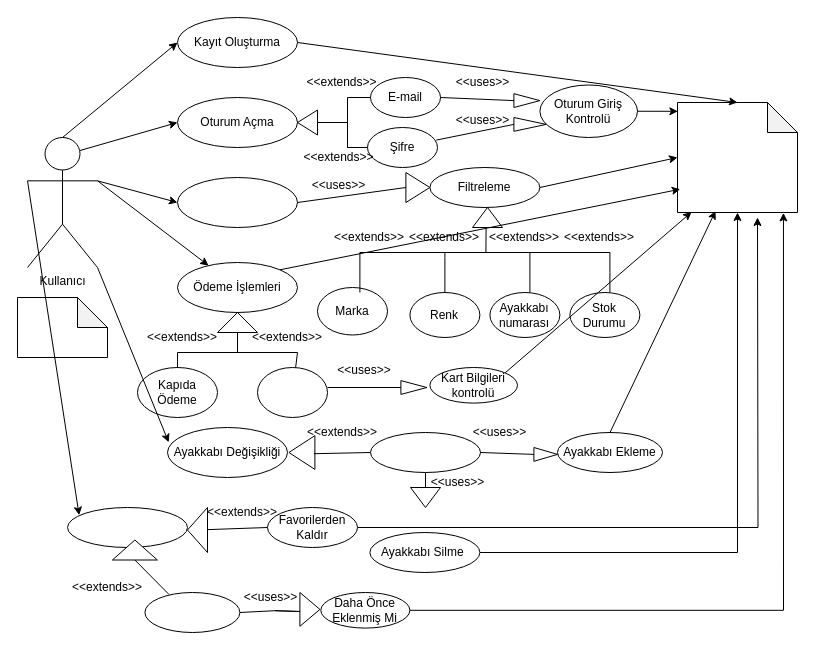
Some shapes in this 815 by 650 pixel diagram are drawn without their labels. Each missing label, with the box of its shape:
Aktör: (16, 296, 108, 358)
Ayakkabı Arama: (176, 176, 298, 228)
Dış Sistemler: (676, 102, 798, 212)
Favoriler: (66, 506, 188, 548)
Favorilere Ekle: (144, 592, 240, 632)
Kredi Kartı: (256, 366, 328, 418)
Sepete Git: (370, 432, 480, 472)
